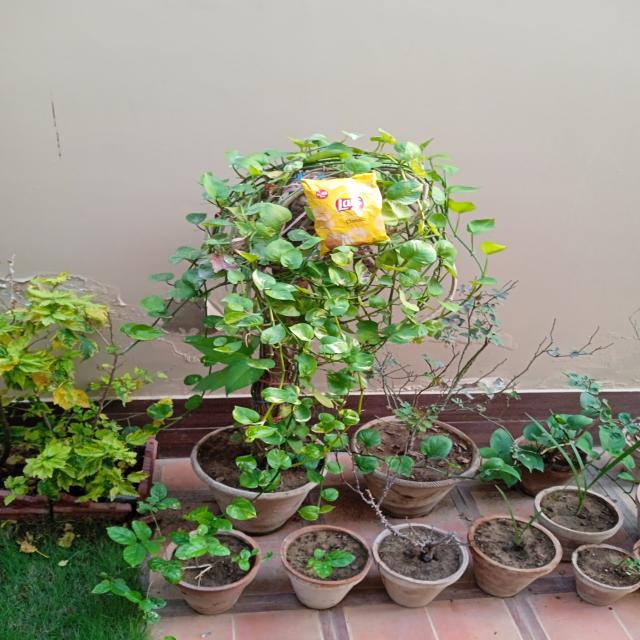Plastic: (304, 169, 392, 251)
